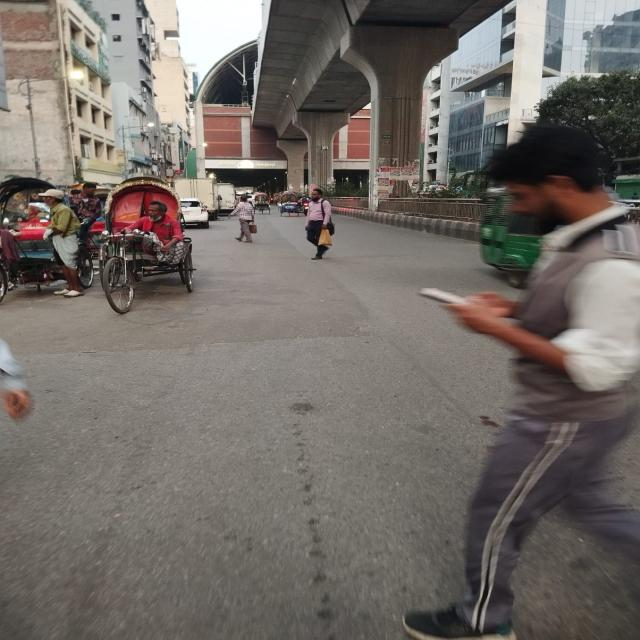person: (424, 132, 637, 640), (306, 188, 338, 265), (235, 194, 258, 243)
